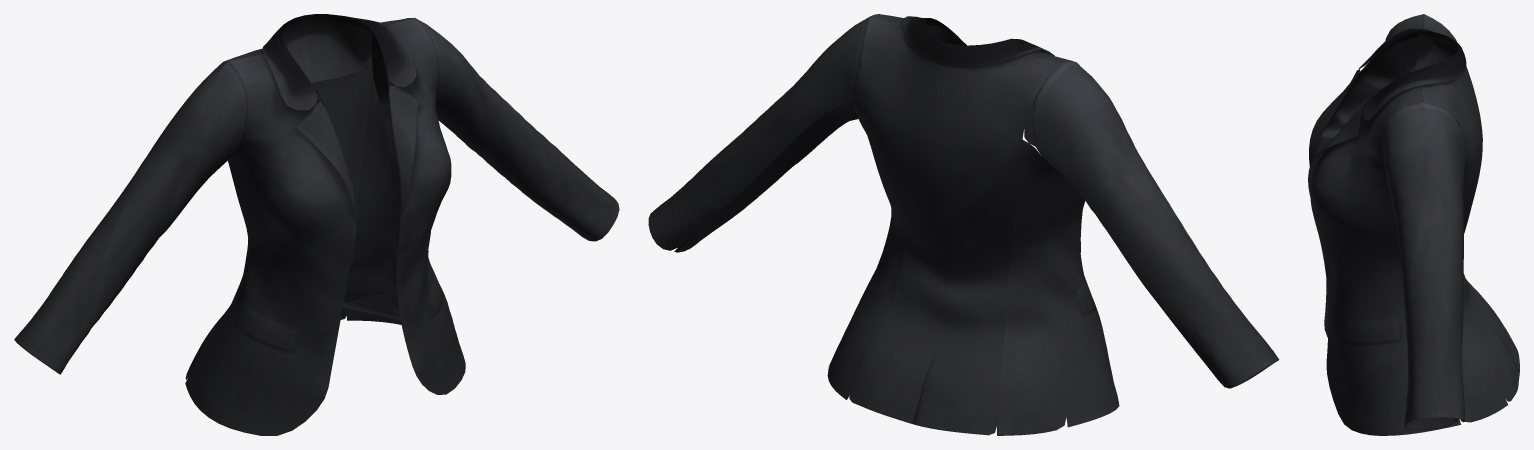
The picture shows the model from 3 angles, left to right: view 1: azimuth 30°, elevation 25°; view 2: azimuth 150°, elevation 25°; view 3: azimuth 270°, elevation 25°; orthographic projection. The views are drawn at different scales.
Visible parts, largest first — view 1: prim2; view 2: prim2; view 3: prim2.
Boxes of the visible parts, box(x1,y1,x2,y2) form: prim2: box(14, 14, 619, 435); prim2: box(648, 14, 1279, 435); prim2: box(1308, 14, 1519, 435).
Size of the model in its own units: 1 by 0.5717 by 0.3249.
Materials: 1 (1 with a texture image).
